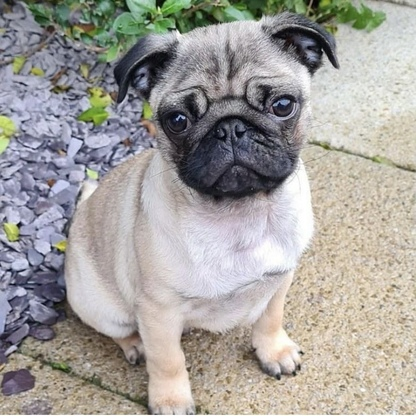Pug: (53, 10, 346, 416)
